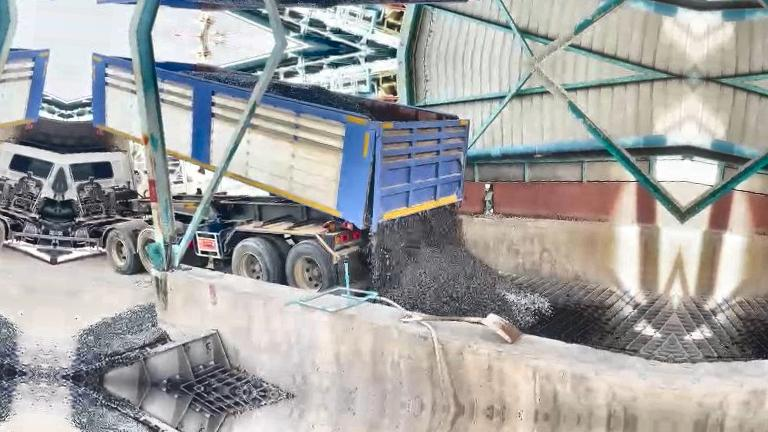gravel: (368, 207, 550, 327), (45, 304, 168, 379), (267, 79, 384, 120), (182, 71, 258, 88)
